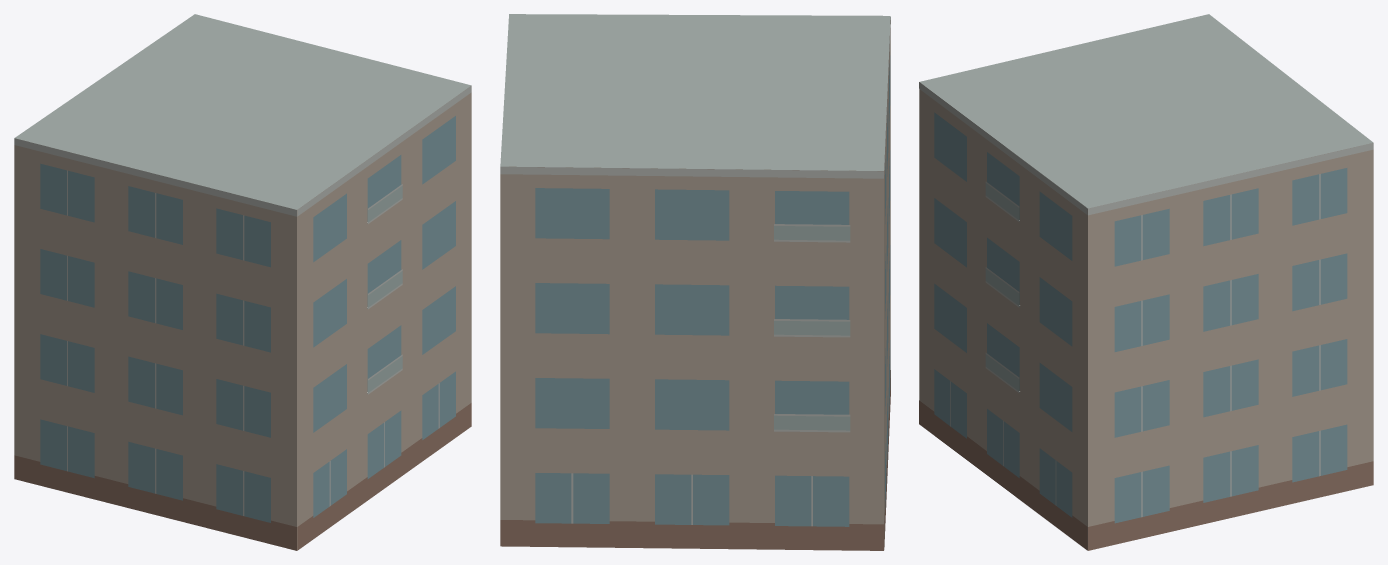
The model's file is survey-upis-32712011.glb.
3 renders of one model, left to right at view 1: azimuth 30°, elevation 25°; view 2: azimuth 150°, elevation 25°; view 3: azimuth 270°, elevation 25°, orthographic. The views are drawn at different scales.
Visible parts, largest first — view 1: survey-upis-32712011.tmp; view 2: survey-upis-32712011.tmp; view 3: survey-upis-32712011.tmp.
Boxes of the visible parts, x1,y1,x2,y2 form: survey-upis-32712011.tmp: (14,14,471,550); survey-upis-32712011.tmp: (500,14,890,550); survey-upis-32712011.tmp: (919,14,1373,550).
Size of the model in its own units: 14.82 by 12.15 by 14.63.
